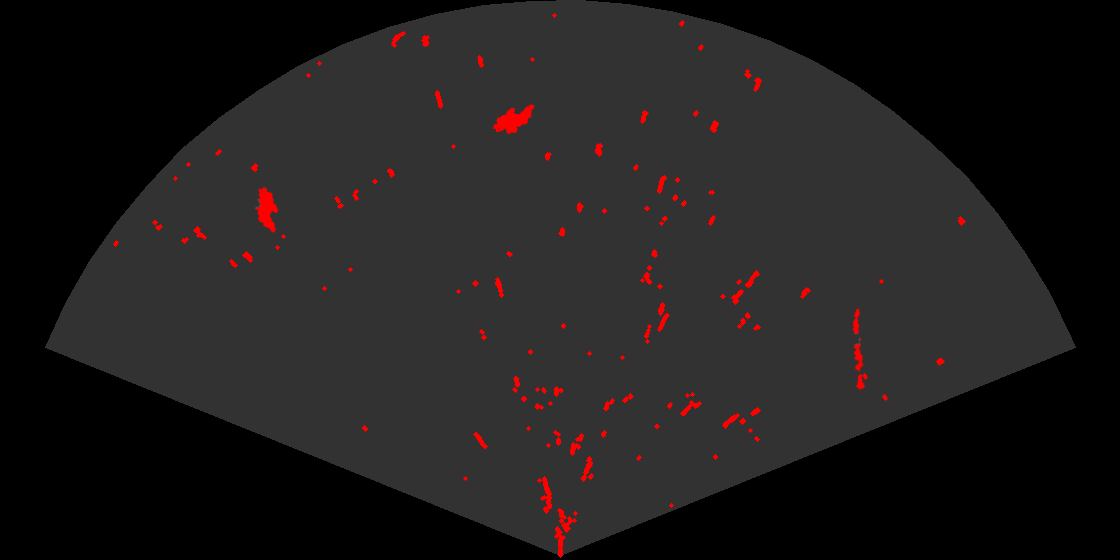AUV: (491, 103, 536, 136), (254, 185, 280, 234)
chain: (851, 307, 867, 391)
